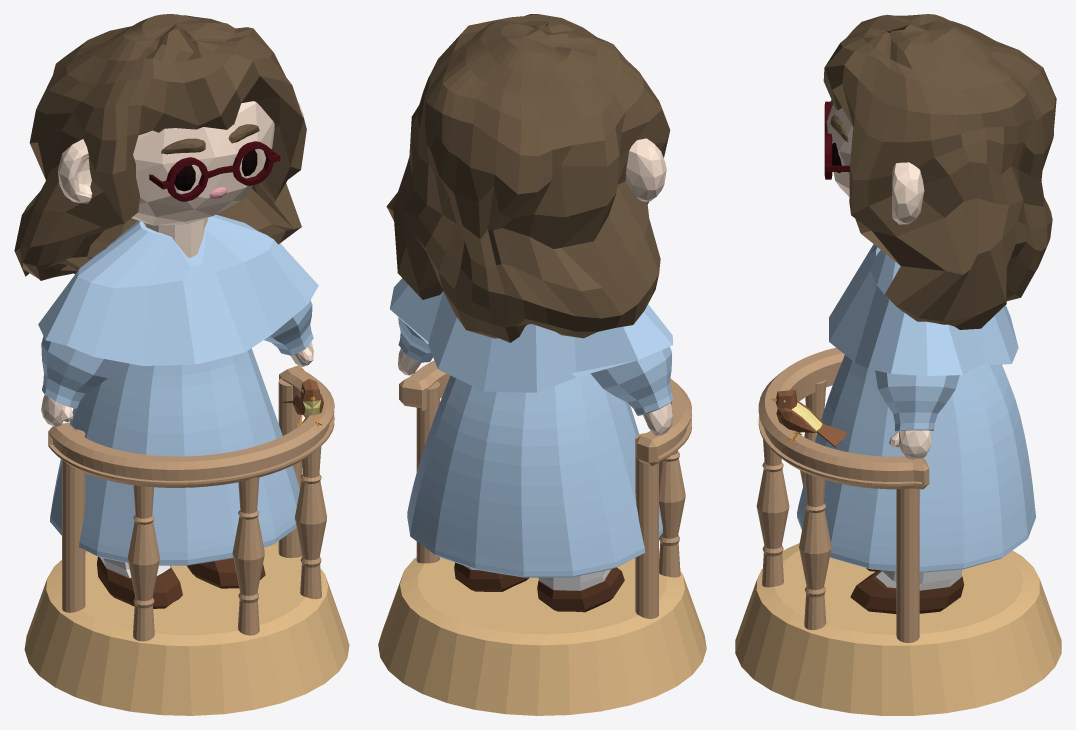
Rendered from marta_balcon.fbx.
3 views of the same model, side by side, from view 1: azimuth 30°, elevation 25°; view 2: azimuth 150°, elevation 25°; view 3: azimuth 270°, elevation 25° (orthographic).
Visible parts, largest first — view 1: Sphere.002, Cylinder.001, Cube.011, Cylinder.020, Cylinder, Roundcube.011, Cube.009, Cylinder.015, Cylinder.002, Cylinder.017, Cylinder.006, Cube.010 (+8 smaller); view 2: Sphere.002, Cube.011, Cylinder.001, Cylinder.020, Cube.009, Cylinder, Cylinder.017, Cube.010, Cylinder.002, Cube.039, Cylinder.004, Roundcube.010 (+1 smaller); view 3: Sphere.002, Cylinder.001, Cube.011, Cylinder.020, Cylinder, Cylinder.004, Cylinder.006, Cube.009, Cylinder.015, Cube.010, bird_01_Cube.011, Cube.039 (+5 smaller).
Boxes of the visible parts, x1,y1,x2,y2 form: Sphere.002: (14, 14, 306, 280); Cylinder.001: (24, 541, 349, 715); Cube.011: (49, 348, 299, 565); Cylinder.020: (38, 214, 318, 365); Cylinder: (48, 365, 334, 487); Roundcube.011: (131, 101, 274, 225); Cube.009: (41, 300, 313, 408); Cylinder.015: (232, 477, 264, 635); Cylinder.002: (127, 485, 159, 641); Cylinder.017: (62, 429, 85, 612); Cylinder.006: (295, 446, 326, 599); Cube.010: (97, 556, 265, 608); Sphere.002: (386, 14, 670, 342); Cube.011: (407, 373, 662, 577); Cylinder.001: (378, 551, 706, 715); Cylinder.020: (390, 278, 672, 392); Cube.009: (398, 317, 673, 415); Cylinder: (399, 360, 691, 465); Cylinder.017: (635, 433, 658, 618); Cube.010: (454, 562, 624, 612); Cylinder.002: (659, 450, 685, 577); Cube.039: (625, 138, 666, 201); Cylinder.004: (416, 381, 439, 563); Roundcube.010: (398, 348, 673, 435); Sphere.002: (823, 14, 1056, 329); Cylinder.001: (735, 543, 1061, 715); Cube.011: (797, 355, 1035, 572); Cylinder.020: (829, 244, 1018, 376); Cylinder: (758, 347, 929, 489); Cylinder.004: (896, 488, 919, 642); Cylinder.006: (799, 472, 831, 629); Cube.009: (875, 370, 959, 431); Cylinder.015: (756, 439, 789, 587); Cube.010: (850, 568, 964, 613); bird_01_Cube.011: (770, 390, 847, 447); Cube.039: (892, 162, 924, 224).
Size of the model in its own units: 29.87 by 63.02 by 29.87.
